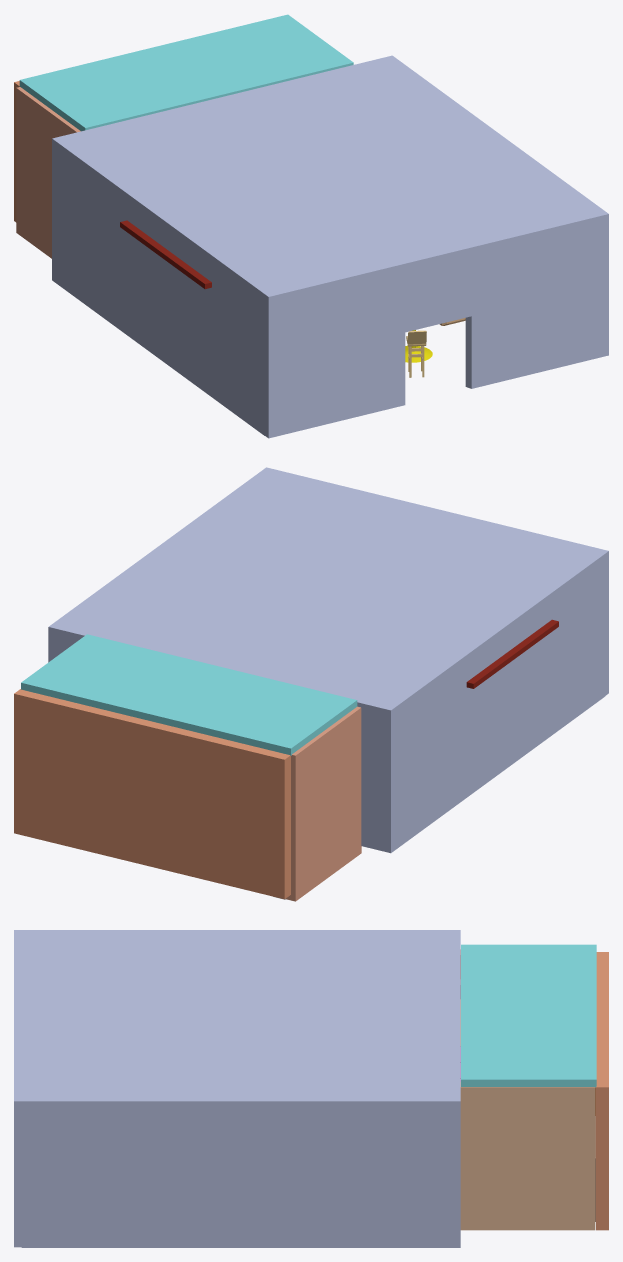
Rendered from Nivell_3_color.fbx.
3 renders of one model, top to bottom at view 1: azimuth 30°, elevation 25°; view 2: azimuth 150°, elevation 25°; view 3: azimuth 270°, elevation 25°, orthographic. The views are drawn at different scales.
Parts seen in each view (by area): view 1: Cube, techo_bar, pared.002, texo escenario, tamburete.002; view 2: Cube, pared.001, techo_bar, pared.002, texo escenario; view 3: Cube, pared, techo_bar, pared.001.
Part boxes in pixels (bbox=[...]): Cube: bbox=[52, 55, 608, 438]; techo_bar: bbox=[19, 14, 353, 131]; pared.002: bbox=[16, 87, 80, 258]; texo escenario: bbox=[120, 220, 211, 289]; tamburete.002: bbox=[406, 330, 426, 377]; Cube: bbox=[48, 467, 608, 853]; pared.001: bbox=[14, 689, 290, 899]; techo_bar: bbox=[21, 634, 357, 755]; pared.002: bbox=[286, 706, 361, 901]; texo escenario: bbox=[466, 619, 558, 688]; Cube: bbox=[14, 930, 460, 1247]; pared: bbox=[460, 1082, 595, 1230]; techo_bar: bbox=[461, 944, 596, 1087]; pared.001: bbox=[596, 952, 608, 1230].
Bounding box in the file's own units: 1161 × 484 × 1669.
